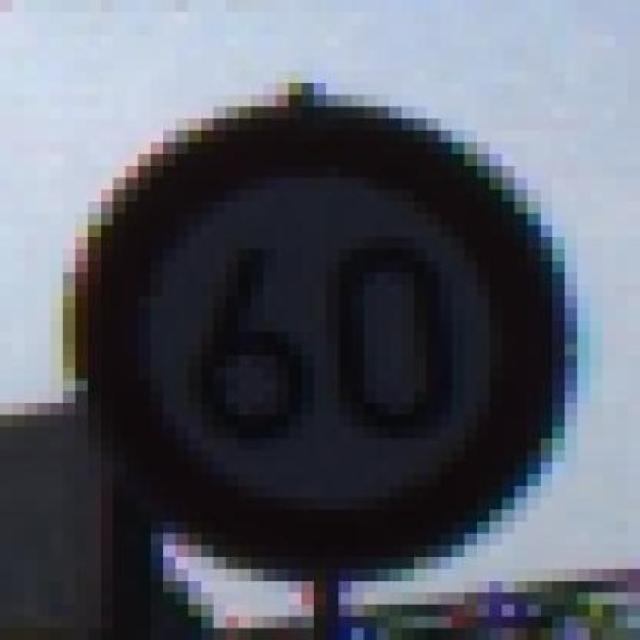forb_speed_over_60: (87, 110, 558, 568)
